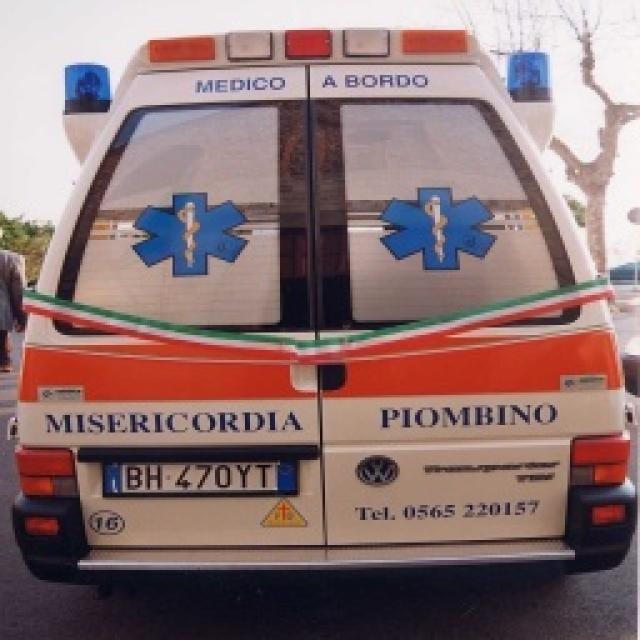emergency-vehicle: (14, 12, 640, 606)
